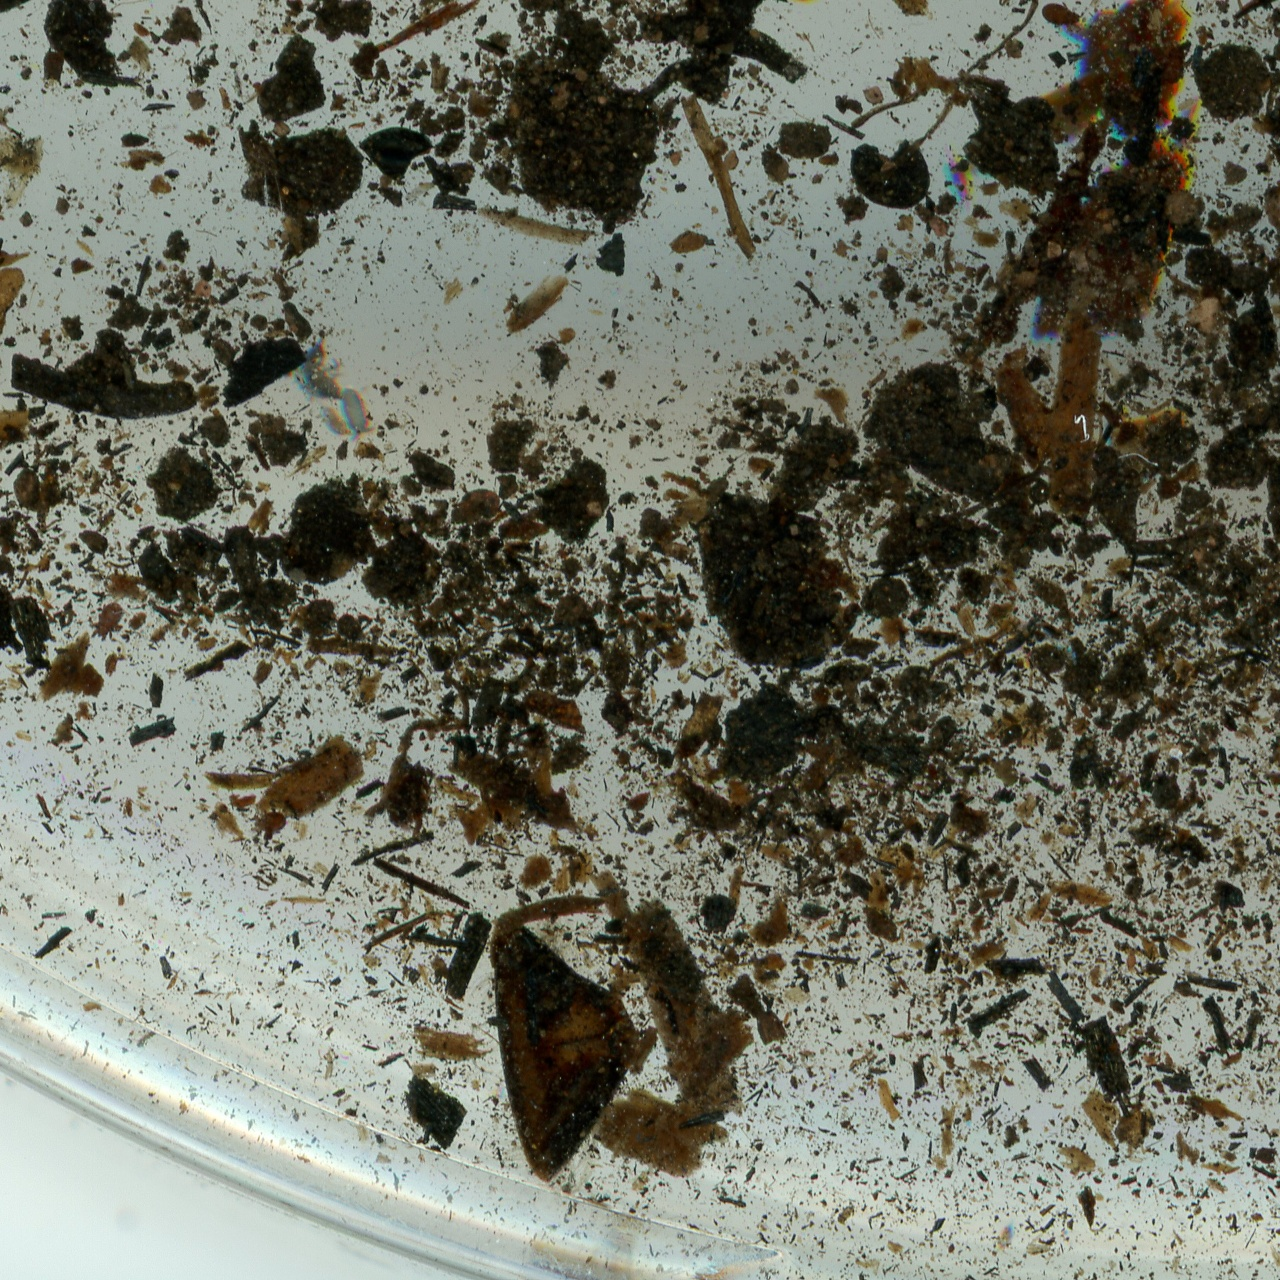arthropod: (298, 333, 343, 408), (331, 381, 380, 447), (86, 593, 129, 647), (319, 400, 354, 441), (248, 808, 288, 840)
